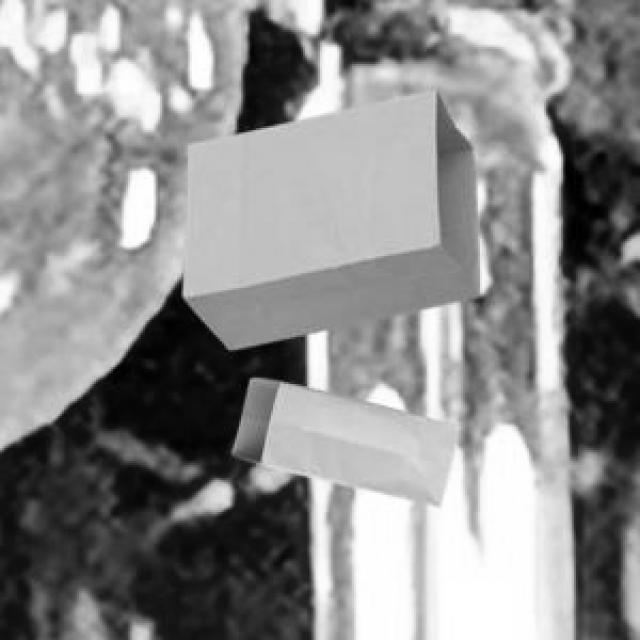paper: (179, 85, 476, 346), (228, 373, 454, 501)
